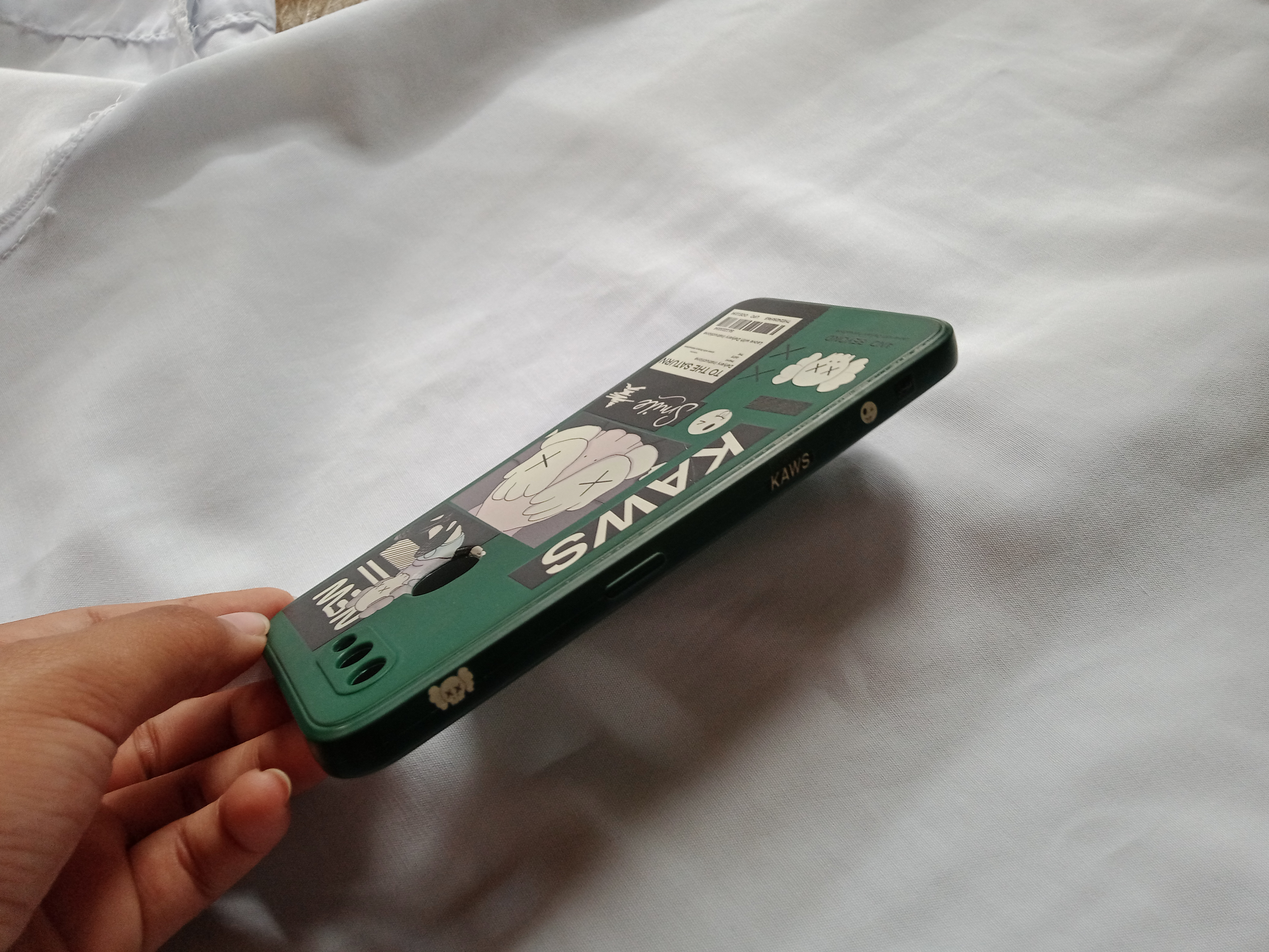plastic: (204, 217, 1022, 818)
